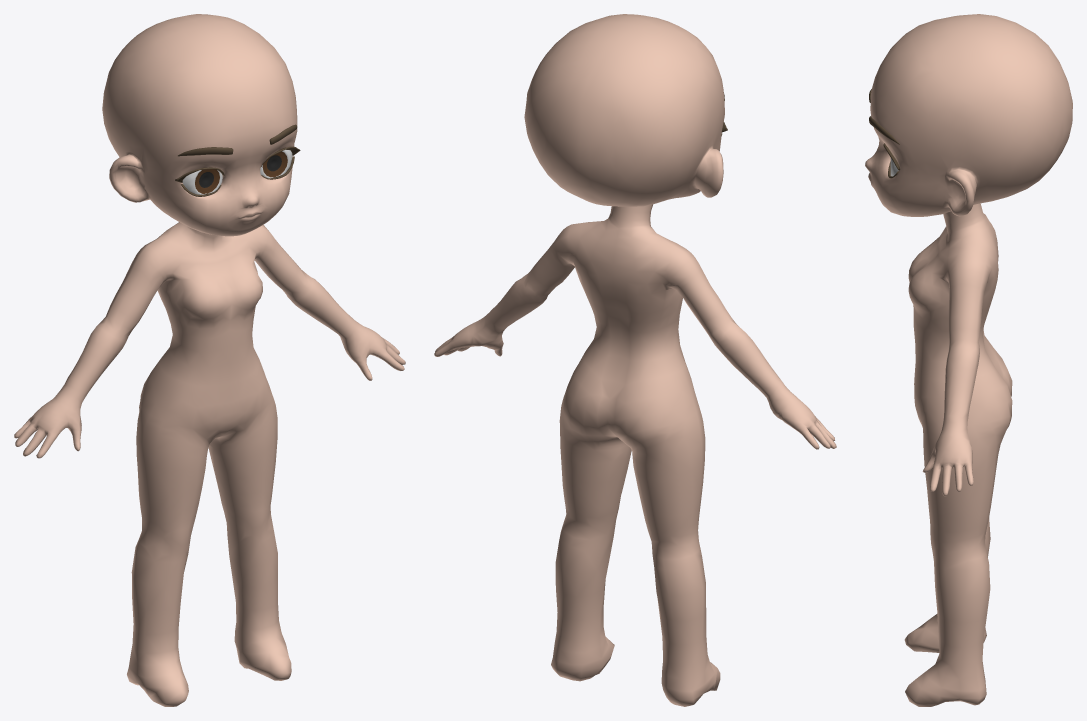
The model's file is body.fbx.
3 renders of one model, left to right at view 1: azimuth 30°, elevation 25°; view 2: azimuth 150°, elevation 25°; view 3: azimuth 270°, elevation 25°, orthographic. The views are drawn at different scales.
Visible parts, largest first — view 1: body base_l; view 2: body base_l; view 3: body base_l.
Part boxes in pixels (bbox=[...]): body base_l: bbox=[14, 14, 405, 706]; body base_l: bbox=[434, 14, 836, 706]; body base_l: bbox=[865, 14, 1072, 706].
Bounding box in the file's own units: 85.36 × 138 × 39.71.
